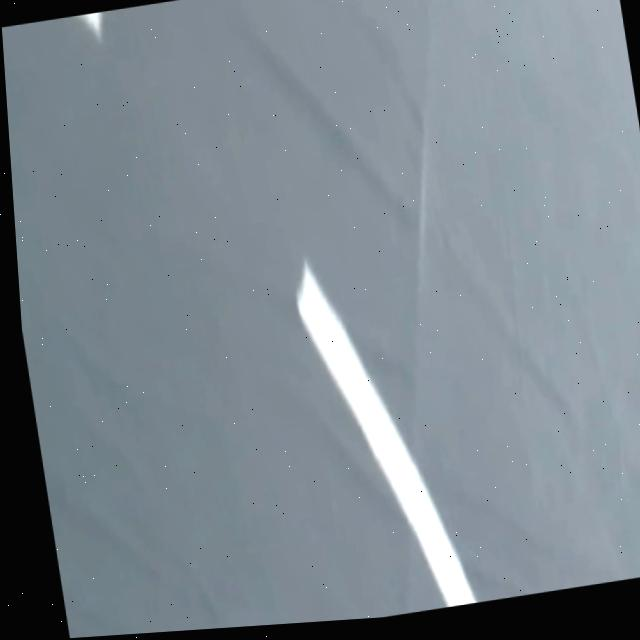center: (296, 263, 475, 607), (80, 12, 99, 35)
